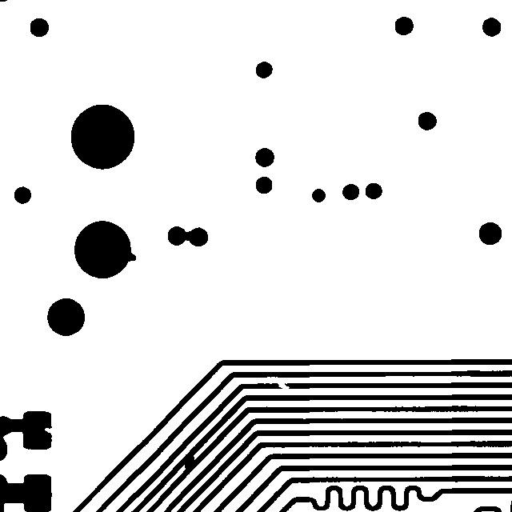copper: (304, 181, 333, 210)
mousebite: (37, 420, 62, 442)
open: (270, 374, 297, 396)
short: (177, 448, 202, 476), (174, 223, 201, 248)
spur: (117, 243, 143, 269)
